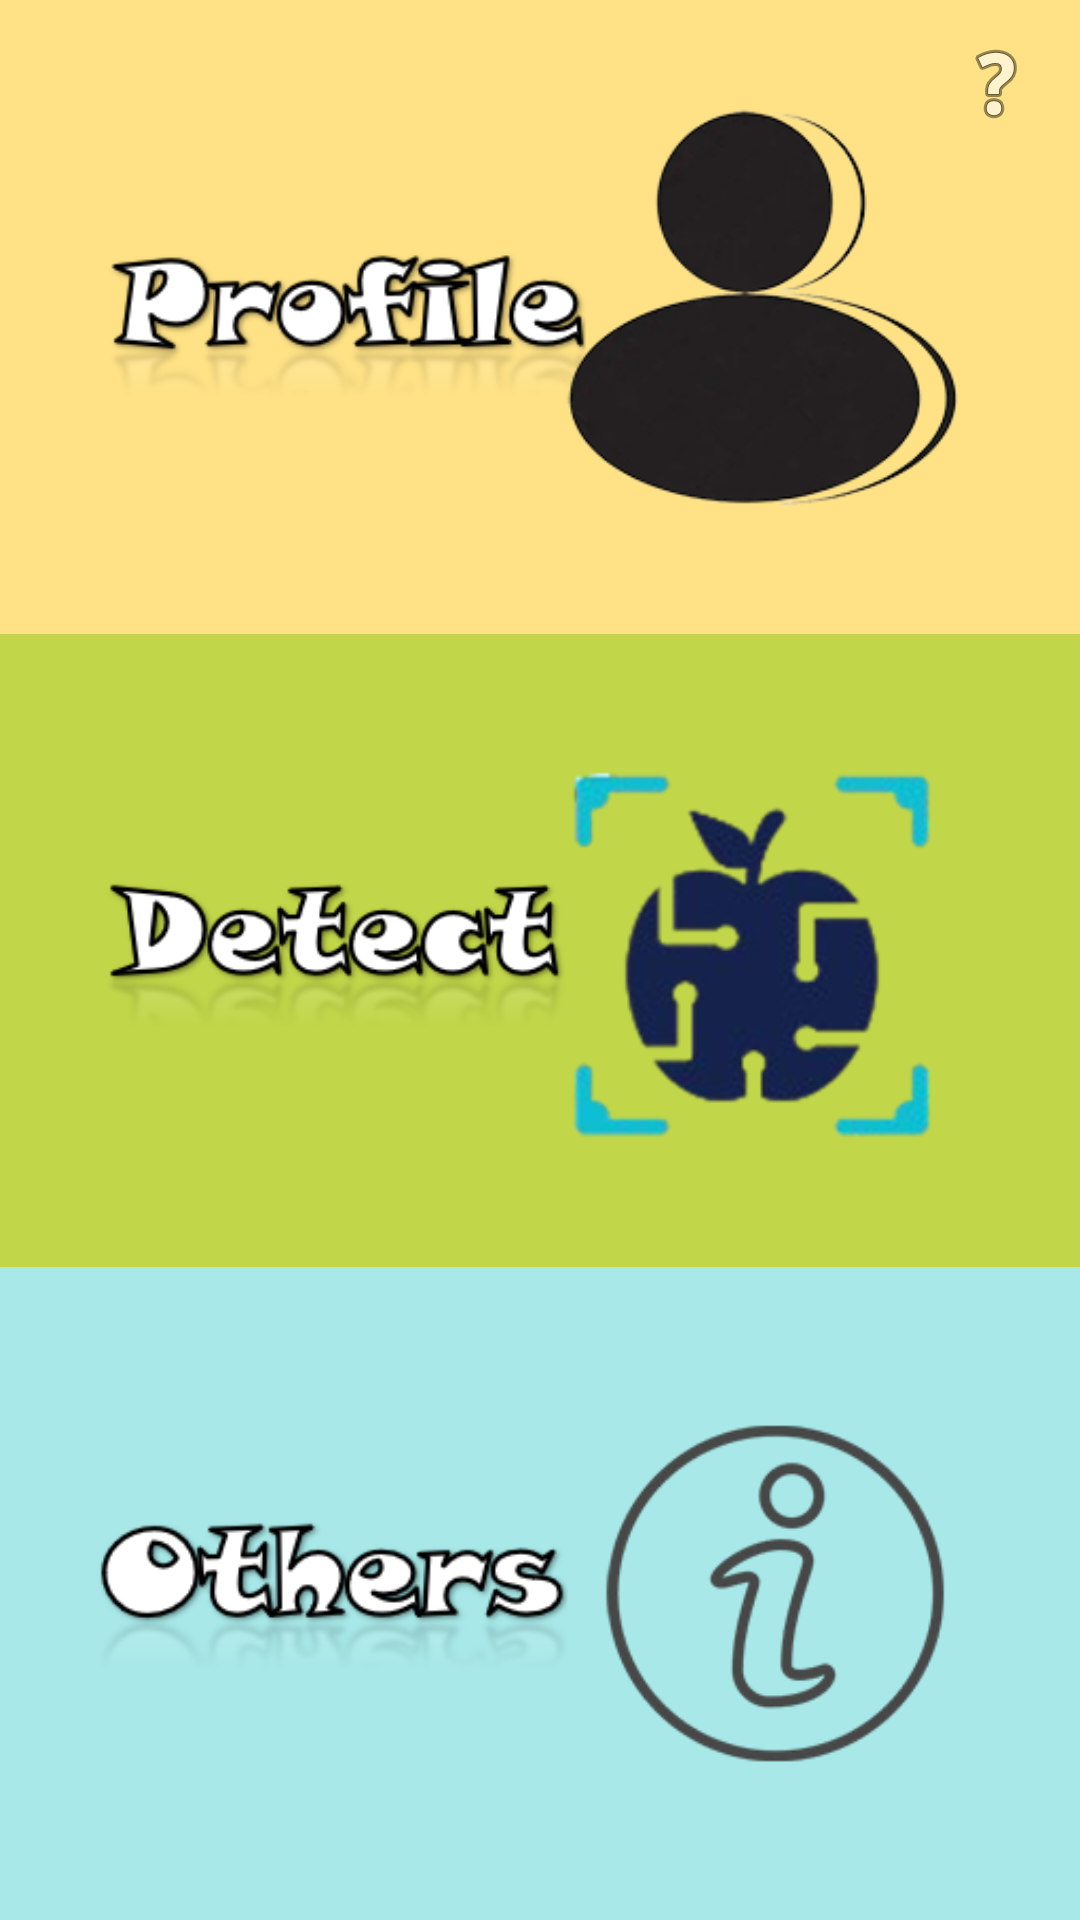

Point at icon controls on the screen. Image size 1080*1920, points as [x,y].
Help: [996,84]
